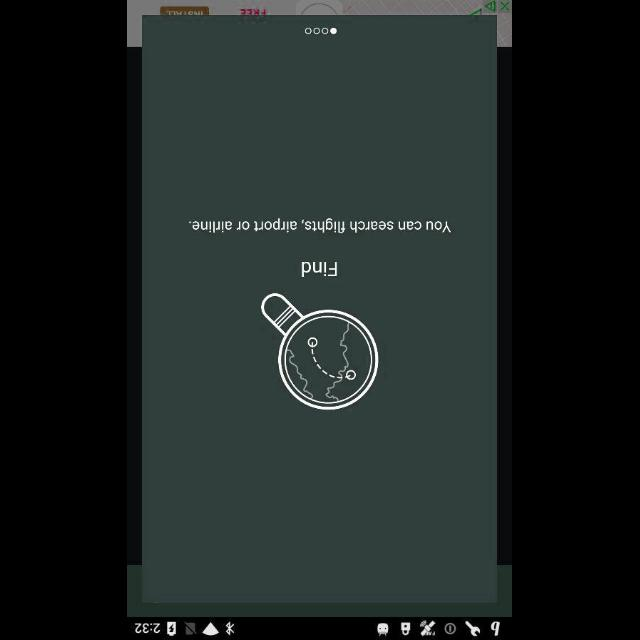image: (262, 292, 381, 411)
pageindicator: (304, 27, 338, 35)
text: (189, 217, 451, 233), (302, 261, 338, 277)
uppertaskbar: (128, 617, 512, 639)
